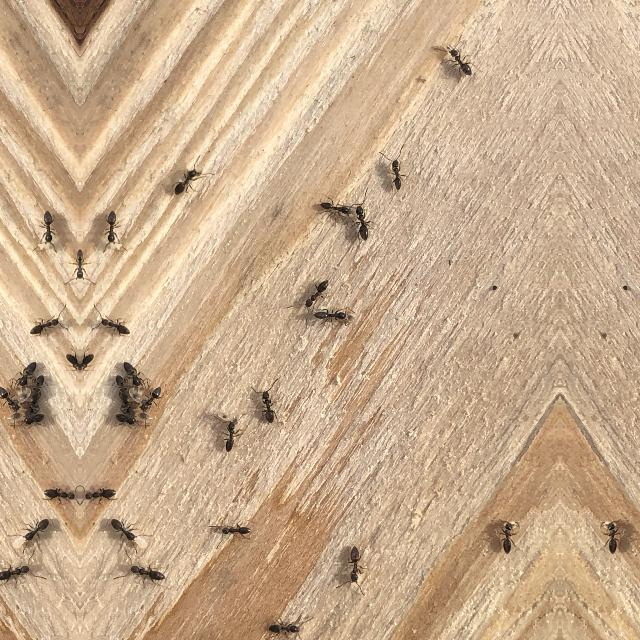Tapinoma: (93, 308, 131, 342), (29, 308, 67, 342), (125, 558, 168, 588), (41, 479, 80, 509), (171, 162, 203, 198), (109, 514, 141, 550), (19, 514, 51, 550), (80, 479, 118, 509), (448, 41, 477, 80), (0, 556, 34, 588), (218, 516, 254, 544), (112, 371, 136, 412), (24, 371, 48, 412), (302, 275, 330, 309), (266, 614, 302, 640), (344, 542, 364, 588), (314, 303, 350, 327), (351, 202, 371, 244), (258, 386, 278, 428), (101, 207, 121, 249), (39, 207, 59, 249), (318, 196, 352, 220), (497, 516, 517, 556), (603, 516, 623, 556), (138, 385, 164, 415), (122, 355, 146, 387), (14, 355, 38, 387), (221, 416, 239, 456), (388, 154, 406, 193), (0, 385, 22, 415), (80, 346, 96, 382), (64, 346, 80, 382), (114, 410, 138, 430), (22, 410, 46, 430), (80, 244, 90, 286), (70, 244, 80, 286)
